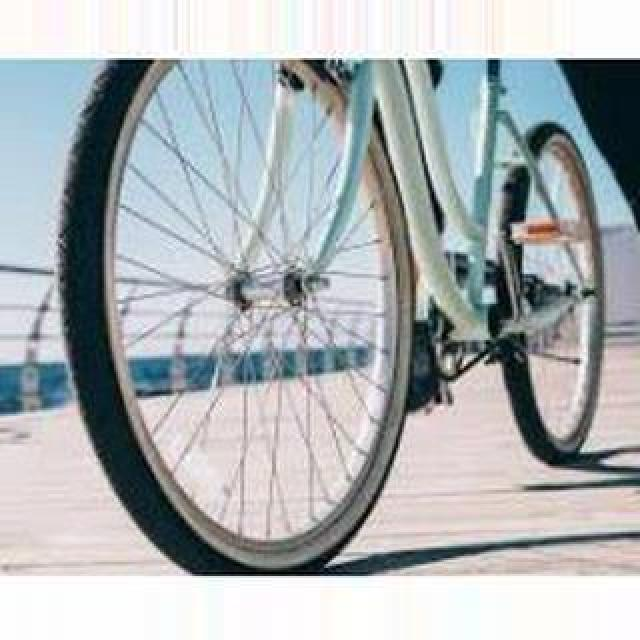Person: (52, 60, 606, 576)
